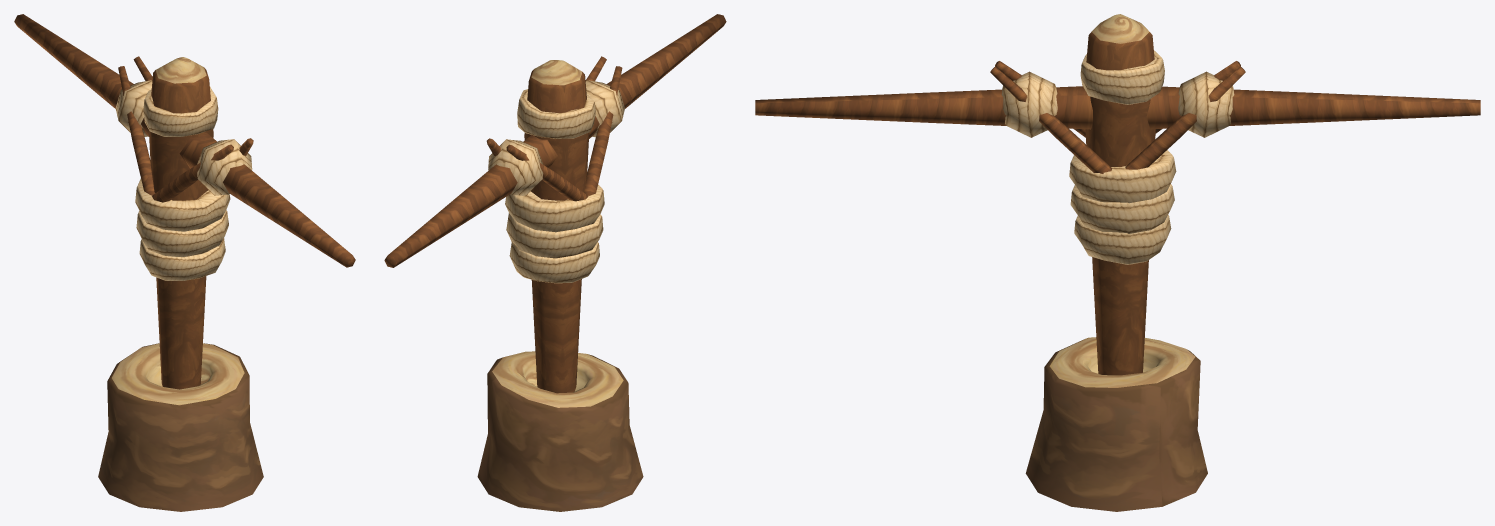
File: Switch2.fbx
3 views of the same model, side by side, from view 1: azimuth 30°, elevation 25°; view 2: azimuth 150°, elevation 25°; view 3: azimuth 270°, elevation 25° (orthographic). The views are drawn at different scales.
Parts seen in each view (by area): view 1: polySurface970; view 2: polySurface970; view 3: polySurface970.
Boxes of the visible parts, x1,y1,x2,y2 form: polySurface970: [14, 14, 355, 511]; polySurface970: [384, 14, 726, 511]; polySurface970: [755, 14, 1480, 511].
Bounding box in the file's own units: 9.5 × 26.26 × 37.76.
